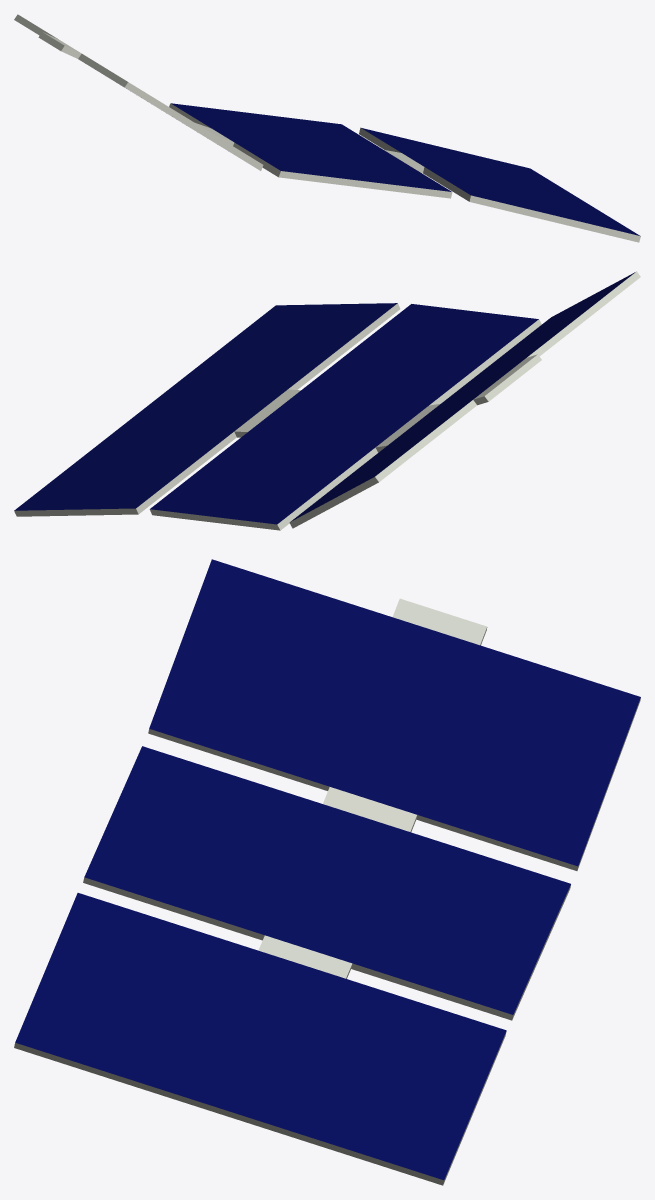
Rendered from solar_battery_2.fbx.
3 renders of one model, top to bottom at view 1: azimuth 30°, elevation 25°; view 2: azimuth 150°, elevation 25°; view 3: azimuth 270°, elevation 25°, orthographic. The views are drawn at different scales.
Visible parts, largest first — view 1: solar_battery_2; view 2: solar_battery_2; view 3: solar_battery_2.
Part boxes in pixels (left/top/right/bottom): solar_battery_2: left=14, top=14, right=640, bottom=242; solar_battery_2: left=14, top=271, right=640, bottom=530; solar_battery_2: left=14, top=559, right=640, bottom=1185.
Size of the model in its own units: 429 by 232 by 390.
